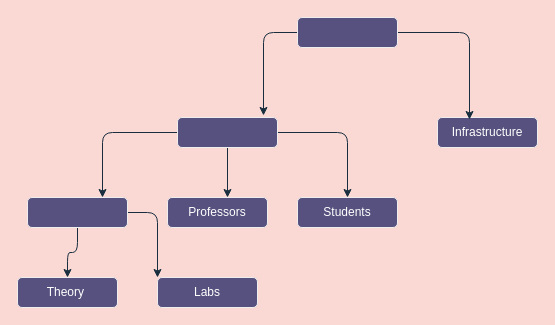
The diagram is 555 pixels wide and 325 high, and some of its shapes have lost their labels. Each missing label, with the centre of its shape:
"College" belongs at [347,32].
"Course" belongs at [77,212].
"Department" belongs at [227,132].
